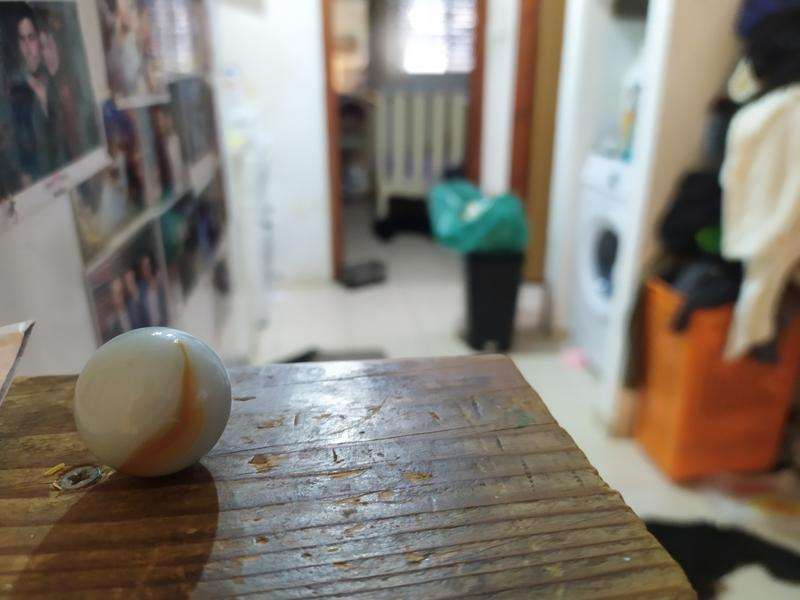Warning: (70, 323, 236, 481)
